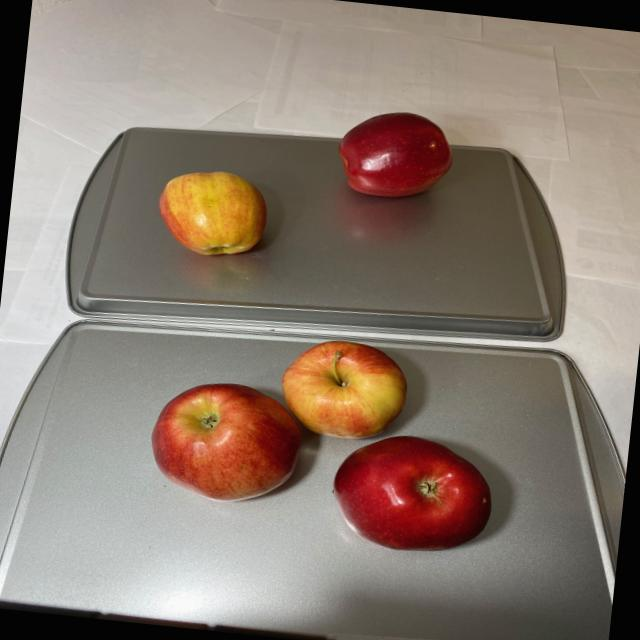apple: (142, 324, 510, 558), (329, 104, 456, 204), (152, 164, 272, 262)
